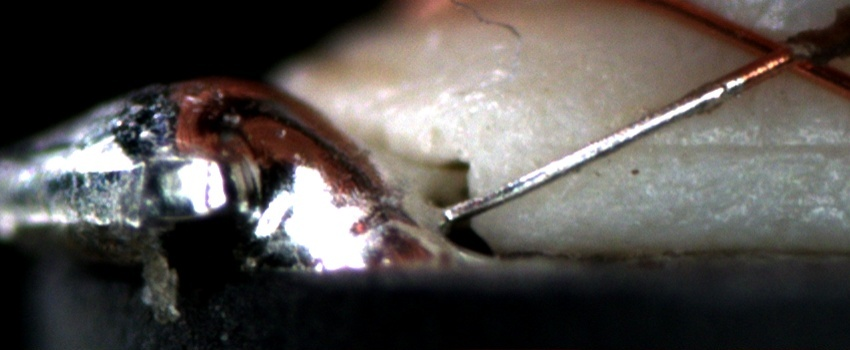CL: (729, 18, 824, 84)
DL: (626, 113, 850, 177)
TS: (443, 75, 743, 220)
